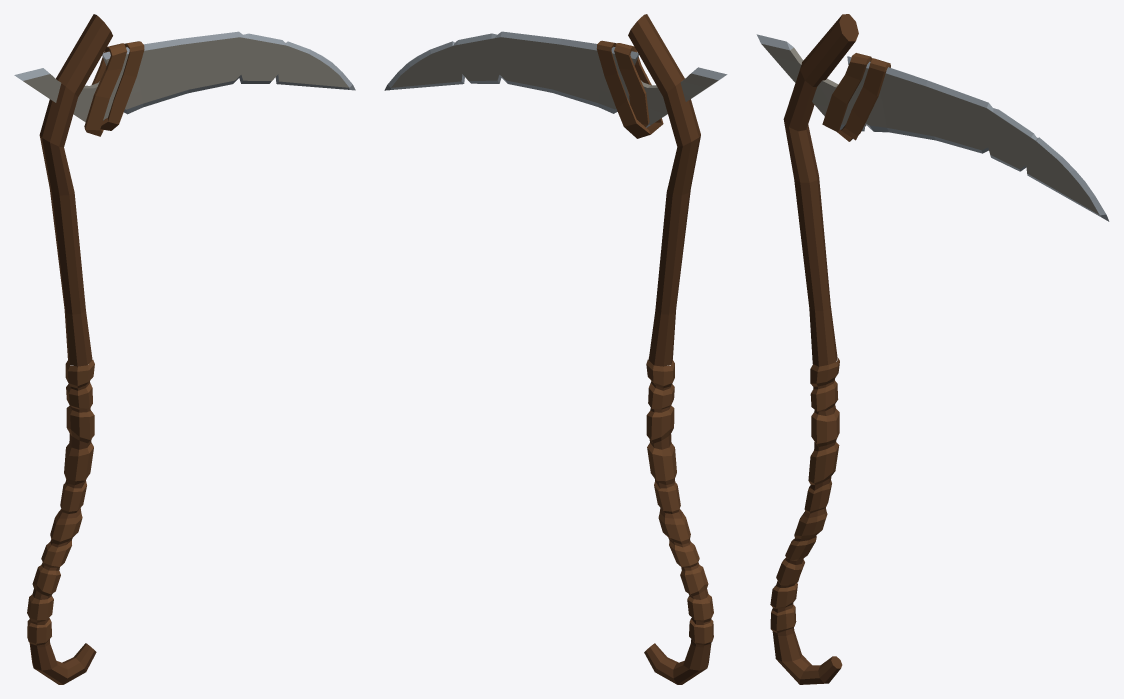
File: cc0-scythe-lod0.glb
3 views of the same model, side by side, from view 1: azimuth 30°, elevation 25°; view 2: azimuth 150°, elevation 25°; view 3: azimuth 330°, elevation 25° (orthographic). The views are drawn at different scales.
Parts seen in each view (by area): view 1: part_0; view 2: part_0; view 3: part_0.
Boxes of the visible parts, bbox=[...] form: part_0: bbox=[14, 14, 355, 684]; part_0: bbox=[384, 14, 727, 684]; part_0: bbox=[756, 14, 1109, 684].
Bounding box in the file's own units: 3.03 × 5.58 × 0.2771.
